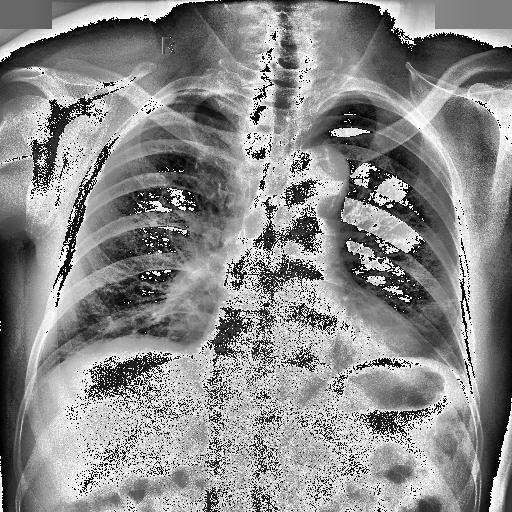0- Aortic enlargement: (285, 146, 349, 220), (286, 146, 350, 218), (292, 146, 348, 216)
11- Pleural thickening: (313, 88, 385, 120), (160, 86, 220, 102)
3- Cardiomegaly: (196, 302, 426, 372), (194, 311, 428, 373)
